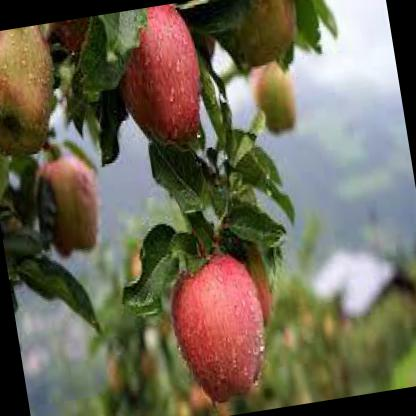apple: (163, 246, 278, 412), (107, 1, 212, 150), (1, 24, 72, 167), (37, 160, 107, 257)
